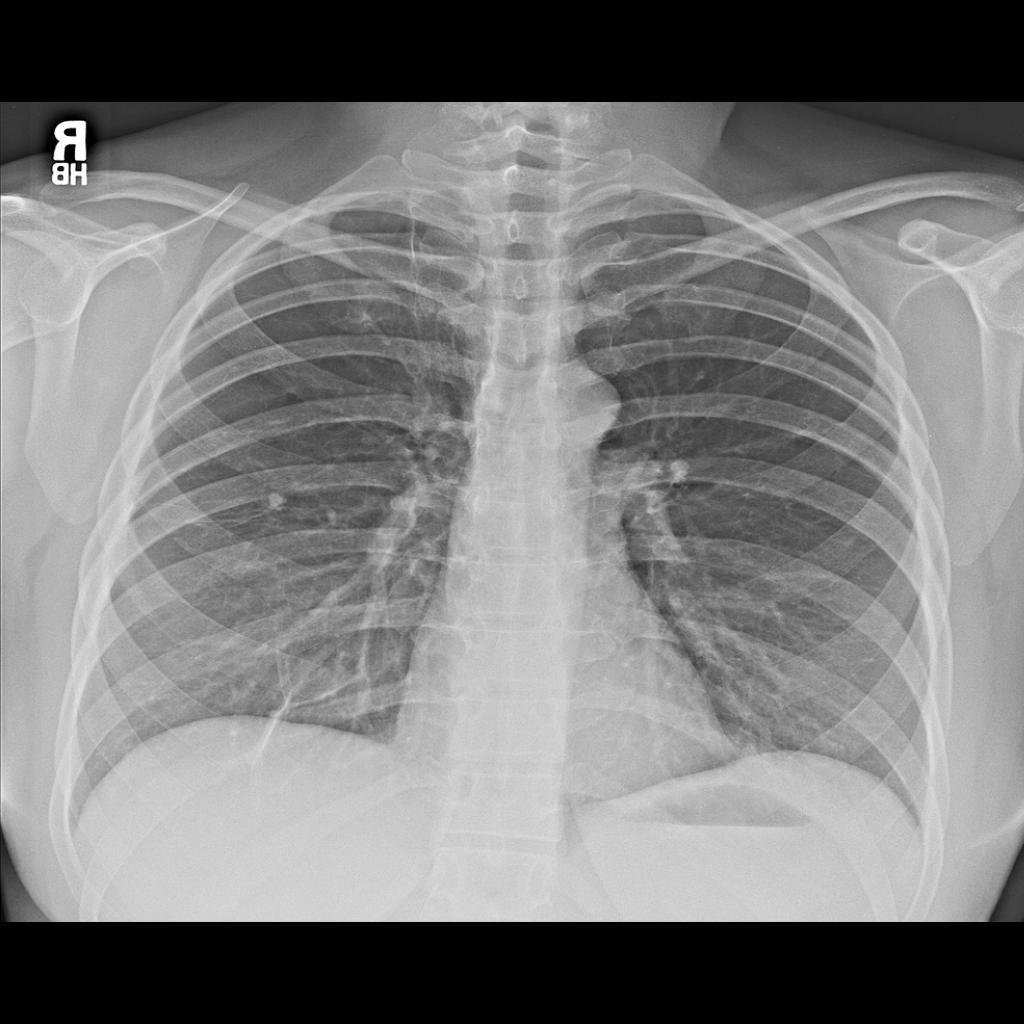Nodule: (269, 489, 289, 514)
